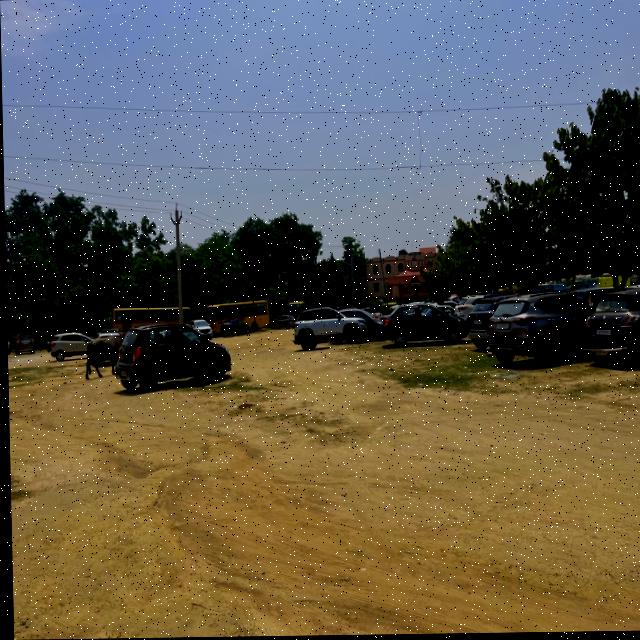bus: (108, 302, 193, 333), (203, 297, 271, 333), (285, 300, 305, 316)
car: (113, 316, 229, 409), (485, 291, 588, 366), (581, 289, 640, 370), (378, 303, 465, 353), (290, 308, 365, 359), (46, 325, 102, 368), (464, 297, 502, 357), (339, 302, 381, 346), (452, 297, 480, 323), (189, 317, 214, 344), (11, 331, 36, 356), (220, 320, 251, 339), (269, 313, 294, 333)
